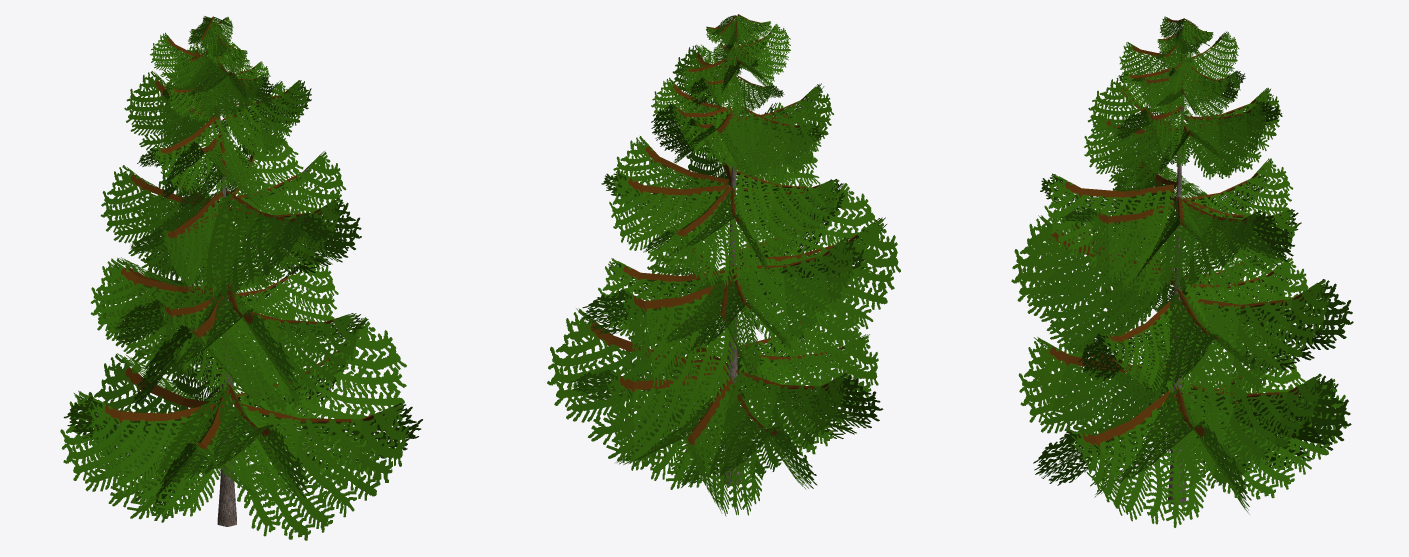
File: Pine Tree Stylized.fbx
3 views of the same model, side by side, from view 1: azimuth 30°, elevation 25°; view 2: azimuth 150°, elevation 25°; view 3: azimuth 270°, elevation 25° (orthographic). The views are drawn at different scales.
Parts seen in each view (by area): view 1: Pine Branch.004, Pine Branch, Pine Branch.001, Pine Branch.019, Pine Branch.011, Pine Branch.003, Pine Branch.008, Pine Branch.010, Pine Branch.021, Pine Branch.007, Pine Branch.020, Pine Branch.005 (+25 smaller); view 2: Pine Branch.009, Pine Branch, Pine Branch.006, Pine Branch.001, Pine Branch.008, Pine Branch.015, Pine Branch.022, Pine Branch.002, Pine Branch.023, Pine Branch.007, Pine Branch.018, Pine Branch.005 (+26 smaller); view 3: Pine Branch.009, Pine Branch.006, Pine Branch.004, Pine Branch.012, Pine Branch.003, Pine Branch.019, Pine Branch.022, Pine Branch.011, Pine Branch.020, Pine Branch.002, Pine Branch.001, Pine Branch.025 (+26 smaller).
Part boxes in pixels (x1,y1,x2,y2): Pine Branch.004: (229,403,422,540); Pine Branch: (63,396,223,516); Pine Branch.001: (234,317,406,487); Pine Branch.019: (200,190,348,299); Pine Branch.011: (231,308,368,411); Pine Branch.003: (154,383,308,500); Pine Branch.008: (132,294,291,408); Pine Branch.010: (91,258,216,366); Pine Branch.021: (100,165,227,275); Pine Branch.007: (154,390,295,504); Pine Branch.020: (221,198,361,289); Pine Branch.005: (60,390,212,522); Pine Branch.009: (581,284,735,405); Pine Branch: (722,370,883,478); Pine Branch.006: (570,364,728,489); Pine Branch.001: (547,308,726,469); Pine Branch.008: (740,217,900,364); Pine Branch.015: (739,237,864,342); Pine Branch.022: (601,171,728,273); Pine Branch.002: (615,376,762,516); Pine Branch.023: (733,171,844,248); Pine Branch.007: (737,334,878,455); Pine Branch.018: (643,186,757,286); Pine Branch.005: (671,386,817,489); Pine Branch.009: (1179,279,1353,403); Pine Branch.006: (1170,373,1351,488); Pine Branch.004: (1033,389,1207,527); Pine Branch.012: (1011,215,1174,357); Pine Branch.003: (1018,337,1168,462); Pine Branch.019: (1040,173,1174,277); Pine Branch.022: (1157,200,1294,291); Pine Branch.011: (1078,298,1207,394); Pine Branch.020: (1060,202,1178,296); Pine Branch.002: (1183,378,1346,499); Pine Branch.001: (1090,386,1251,514); Pine Branch.025: (1186,101,1281,179).
Size of the model in its own units: 3703 by 4617 by 3710.
